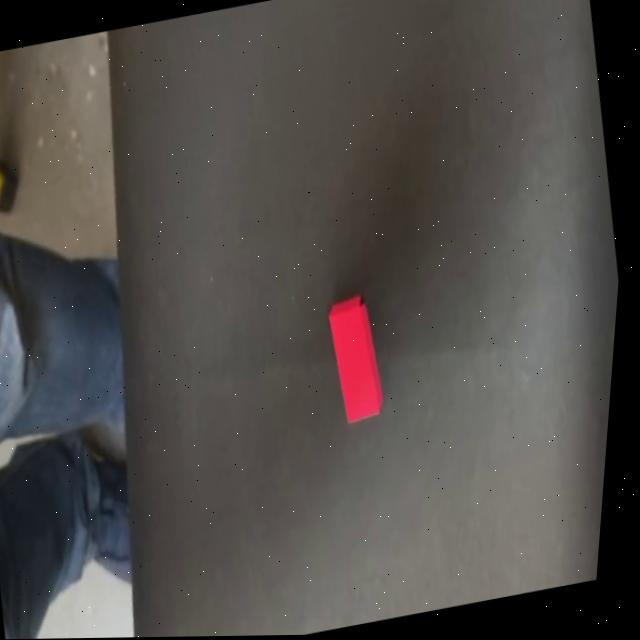red block: (315, 291, 394, 428)
